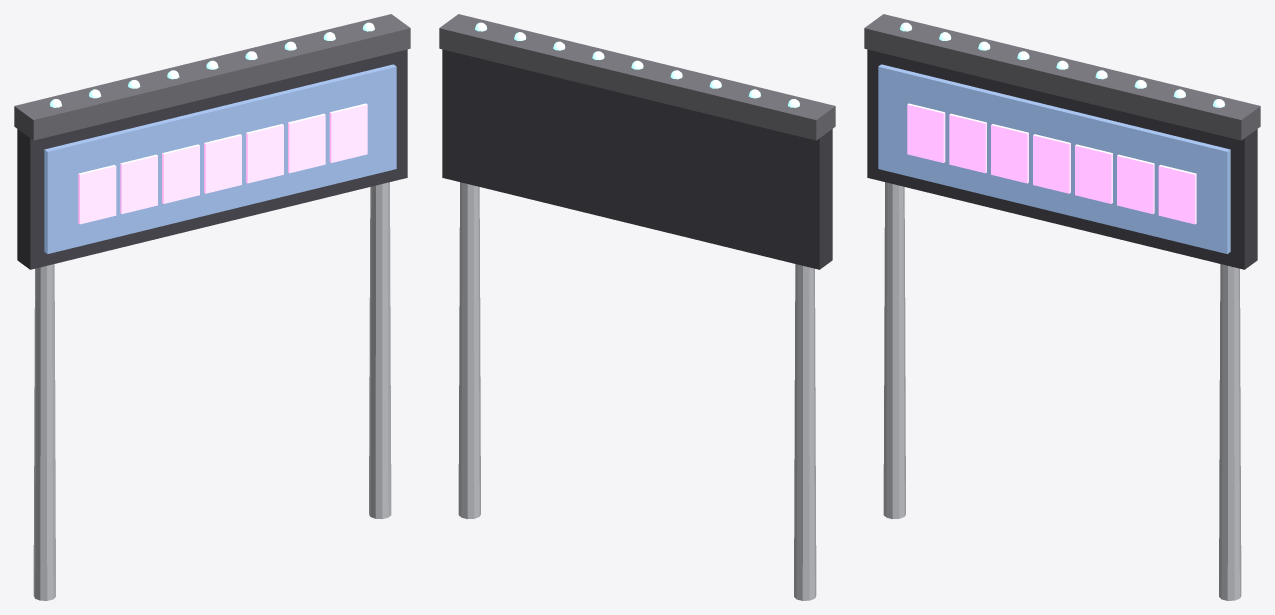
The model's file is casino-floor-and-back-rooms-jackpot-sign-board-b075c9a7__27022.glb.
The picture shows the model from 3 angles, left to right: view 1: azimuth 30°, elevation 25°; view 2: azimuth 150°, elevation 25°; view 3: azimuth 330°, elevation 25°; orthographic projection.
Parts seen in each view (by area): view 1: jackpot-sign-board; view 2: jackpot-sign-board; view 3: jackpot-sign-board.
Boxes of the visible parts, x1,y1,x2,y2 form: jackpot-sign-board: (14,14,410,600); jackpot-sign-board: (439,14,835,600); jackpot-sign-board: (864,14,1260,600).
Bounding box in the file's own units: 2.7 × 3.38 × 0.26.
